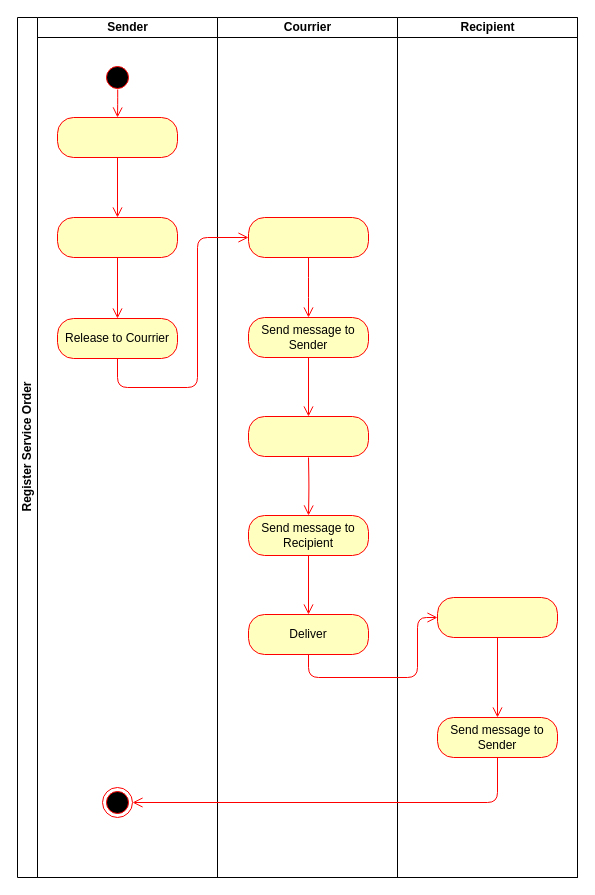
Image size: 595x895. Some labels were removed from this diagram. The centre of each missing label's shape, as x and y in pixels:
"Colect parcel" goes at (308,436).
"Create a new Service Order" goes at (117,137).
"Include items" goes at (117,237).
"Receive" goes at (497,617).
"Select Service Order" goes at (308,237).
